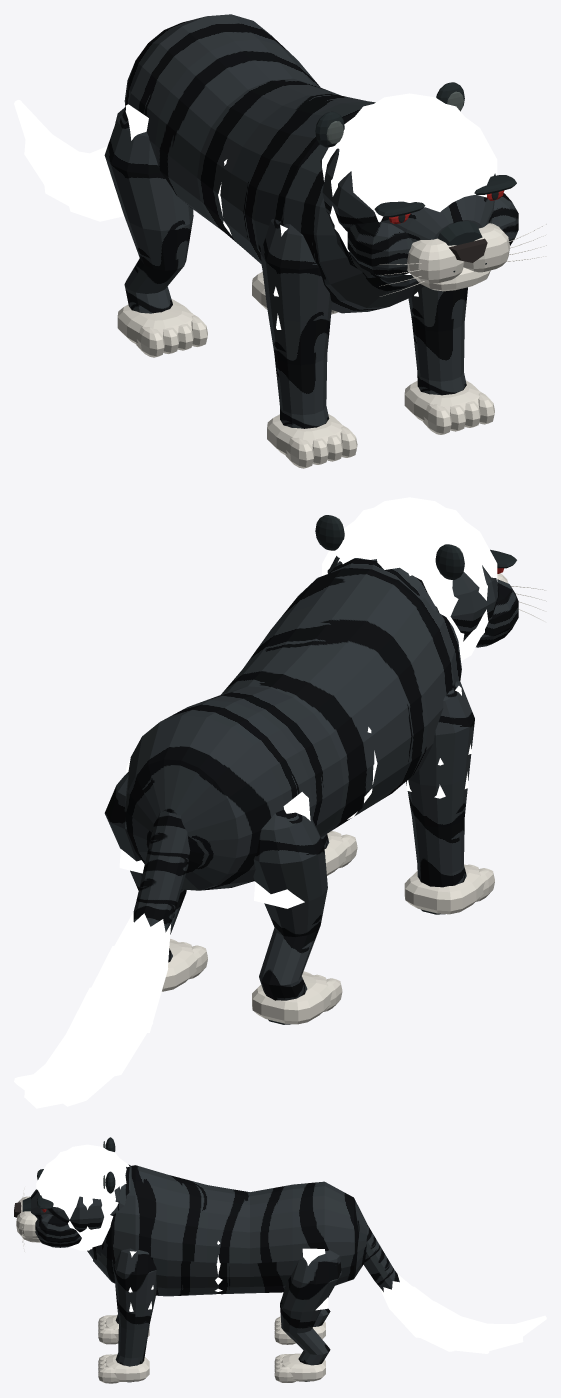
The model's file is moebius-tiger-anatomy-v3.glb.
The picture shows the model from 3 angles, top to bottom: view 1: azimuth 30°, elevation 25°; view 2: azimuth 150°, elevation 25°; view 3: azimuth 270°, elevation 25°; orthographic projection. The views are drawn at different scales.
Visible parts, largest first — view 1: tiger-torso.002, n10.008, n53.005, n67.003, n60.003, n9.006, n69.003, n23.008, n62.003, n55.004, n11.007, n42.006 (+12 smaller); view 2: tiger-torso.002, n10.008, n67.003, n53.005, n42.006, n39.005, n45.005, n69.003, n55.004, n9.006, tiger-tail-brush-2.002, n48.004 (+11 smaller); view 3: tiger-torso.002, n10.008, n74.003, n60.003, n9.006, n42.006, n39.005, n76.002, n13.007, n62.003, n45.005, n48.004 (+10 smaller).
Part boxes in pixels (x1,y1,x2,y2): tiger-torso.002: [124, 14, 423, 313]; n10.008: [322, 93, 497, 274]; n53.005: [260, 219, 332, 428]; n67.003: [104, 107, 193, 313]; n60.003: [408, 286, 467, 395]; n9.006: [322, 148, 495, 242]; n69.003: [117, 299, 207, 357]; n23.008: [407, 223, 509, 283]; n62.003: [404, 380, 494, 434]; n55.004: [267, 414, 357, 468]; n11.007: [347, 221, 412, 277]; n42.006: [62, 146, 122, 221]; tiger-torso.002: [124, 567, 461, 890]; n10.008: [322, 497, 497, 660]; n67.003: [253, 809, 327, 1000]; n53.005: [406, 681, 474, 887]; n42.006: [66, 983, 152, 1075]; n39.005: [92, 945, 168, 1032]; n45.005: [45, 1025, 118, 1106]; n69.003: [252, 971, 342, 1024]; n55.004: [404, 864, 494, 914]; n9.006: [327, 556, 498, 641]; tiger-tail-brush-2.002: [136, 854, 188, 911]; n48.004: [24, 1055, 87, 1108]; tiger-torso.002: [93, 1165, 367, 1296]; n10.008: [36, 1144, 129, 1250]; n74.003: [280, 1250, 341, 1365]; n60.003: [113, 1248, 156, 1366]; n9.006: [31, 1186, 120, 1232]; n42.006: [418, 1301, 463, 1351]; n39.005: [390, 1286, 437, 1338]; n76.002: [274, 1353, 325, 1382]; n13.007: [35, 1214, 81, 1247]; n62.003: [98, 1354, 149, 1383]; n45.005: [455, 1316, 492, 1353]; n48.004: [486, 1323, 523, 1350].
Size of the model in its own units: 1.05 by 1.72 by 4.
Materials: 13 (4 with a texture image).
